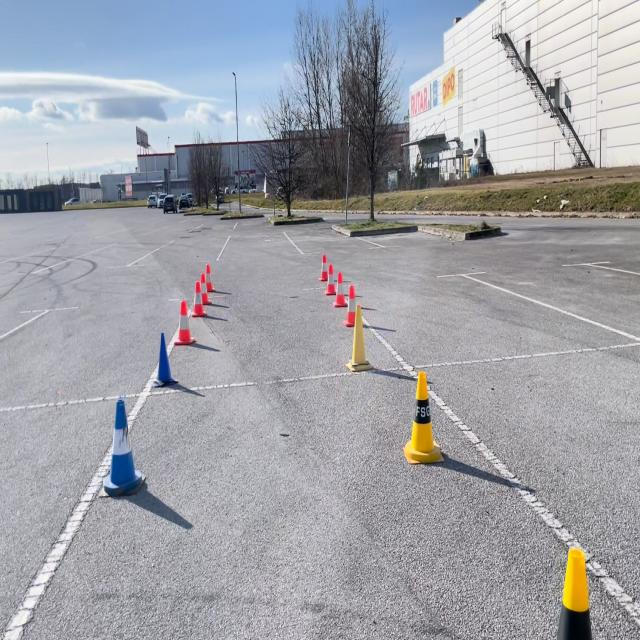blue_cone: (98, 399, 147, 496), (151, 333, 177, 388)
orange_cone: (175, 300, 196, 345), (191, 281, 207, 317), (333, 272, 349, 308), (343, 285, 356, 327), (323, 264, 337, 296), (201, 272, 211, 305), (205, 263, 214, 293), (319, 253, 328, 281)
yellow_cone: (403, 372, 445, 465), (556, 549, 593, 639), (346, 303, 374, 372)
